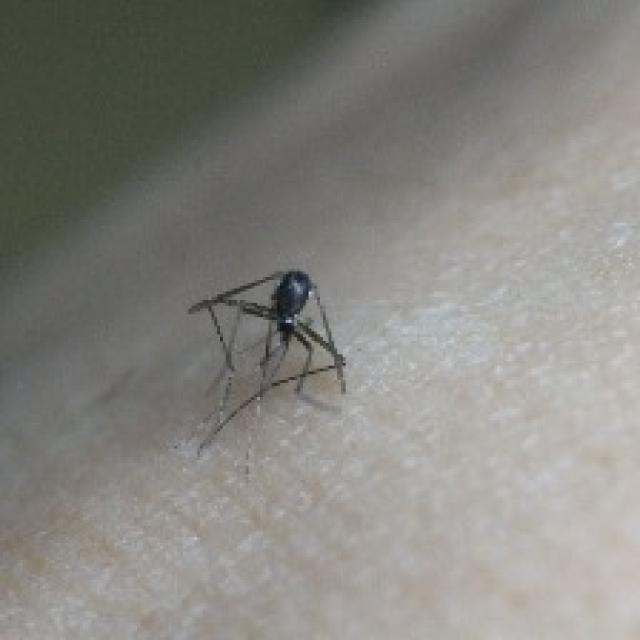aedes: (183, 266, 348, 457)
